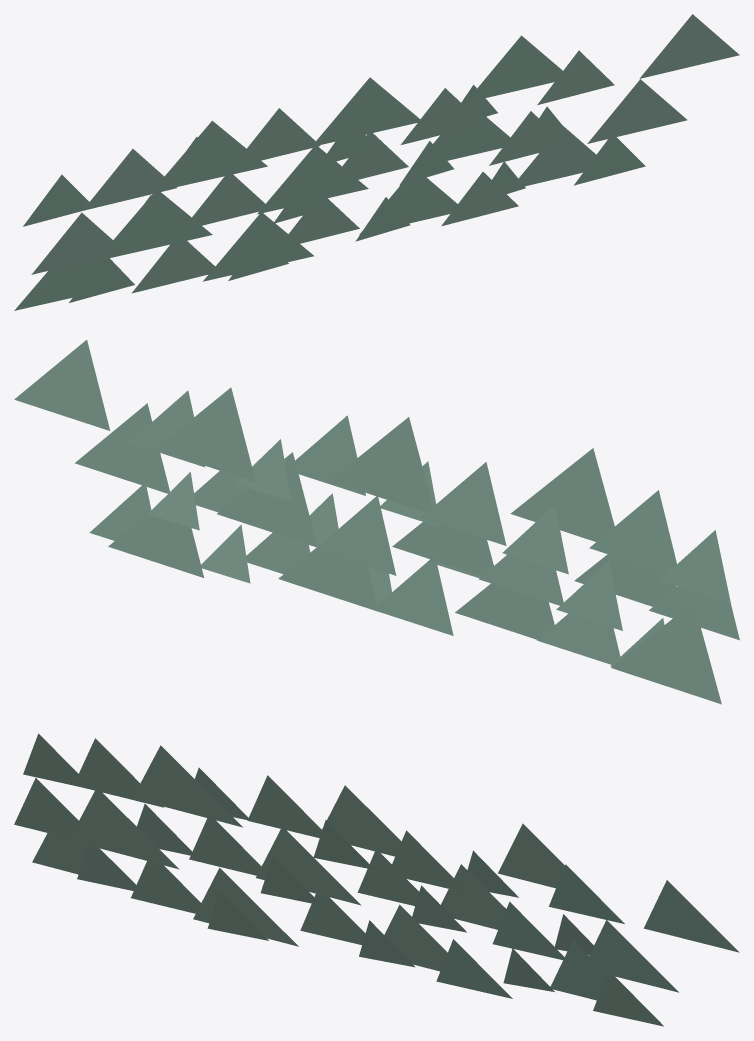
File: prop_bulk_gen_0252_lod0.gltf
3 renders of one model, top to bottom at view 1: azimuth 30°, elevation 25°; view 2: azimuth 150°, elevation 25°; view 3: azimuth 330°, elevation 25°, orthographic. The views are drawn at different scales.
Parts seen in each view (by area): view 1: prop_bulk_gen_0252_lod0; view 2: prop_bulk_gen_0252_lod0; view 3: prop_bulk_gen_0252_lod0.
Part boxes in pixels (x1,y1,x2,y2): prop_bulk_gen_0252_lod0: (14, 14, 739, 310); prop_bulk_gen_0252_lod0: (14, 340, 739, 704); prop_bulk_gen_0252_lod0: (14, 733, 739, 1026).
Bounding box in the file's own units: 0.845 × 0.2058 × 0.0845.
